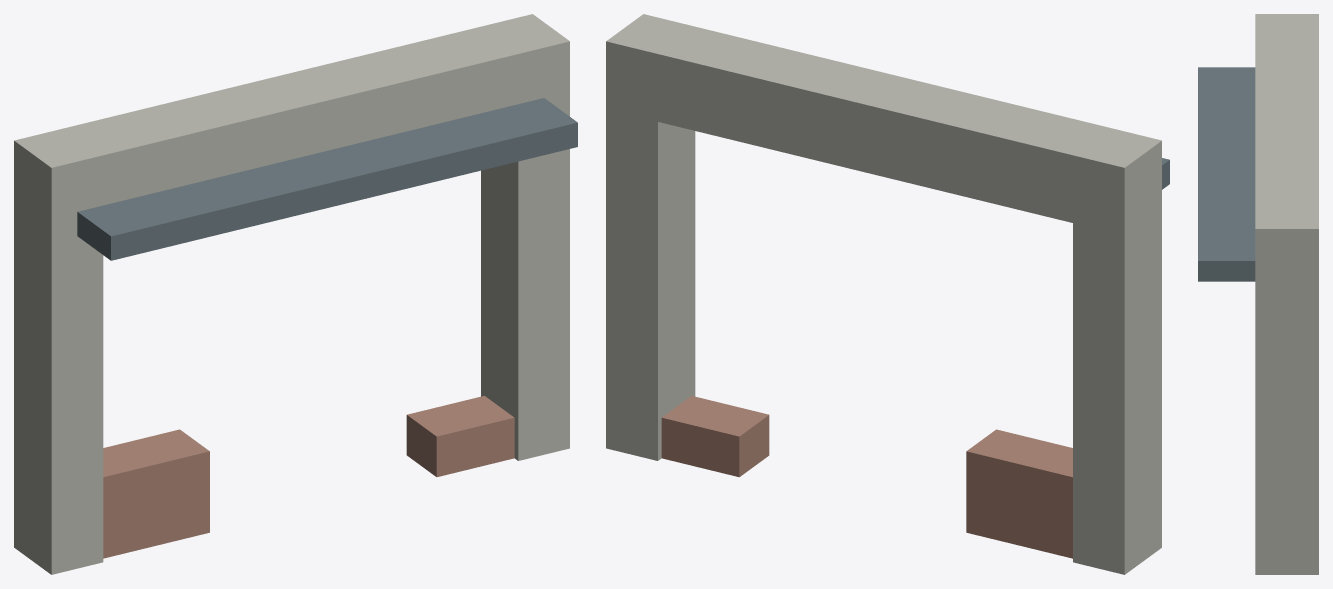
Rendered from three-d-zombie-quarantine-streets-zombie-quarantine-streets-blown-storefront-5b8a9175.glb.
3 renders of one model, left to right at view 1: azimuth 30°, elevation 25°; view 2: azimuth 150°, elevation 25°; view 3: azimuth 270°, elevation 25°, orthographic. The views are drawn at different scales.
Parts seen in each view (by area): view 1: blown-storefront; view 2: blown-storefront; view 3: blown-storefront.
Boxes of the visible parts, x1,y1,x2,y2 form: blown-storefront: (14, 14, 577, 574); blown-storefront: (606, 14, 1169, 574); blown-storefront: (1198, 14, 1318, 574).
Size of the model in its own units: 4 by 3 by 0.9499.
